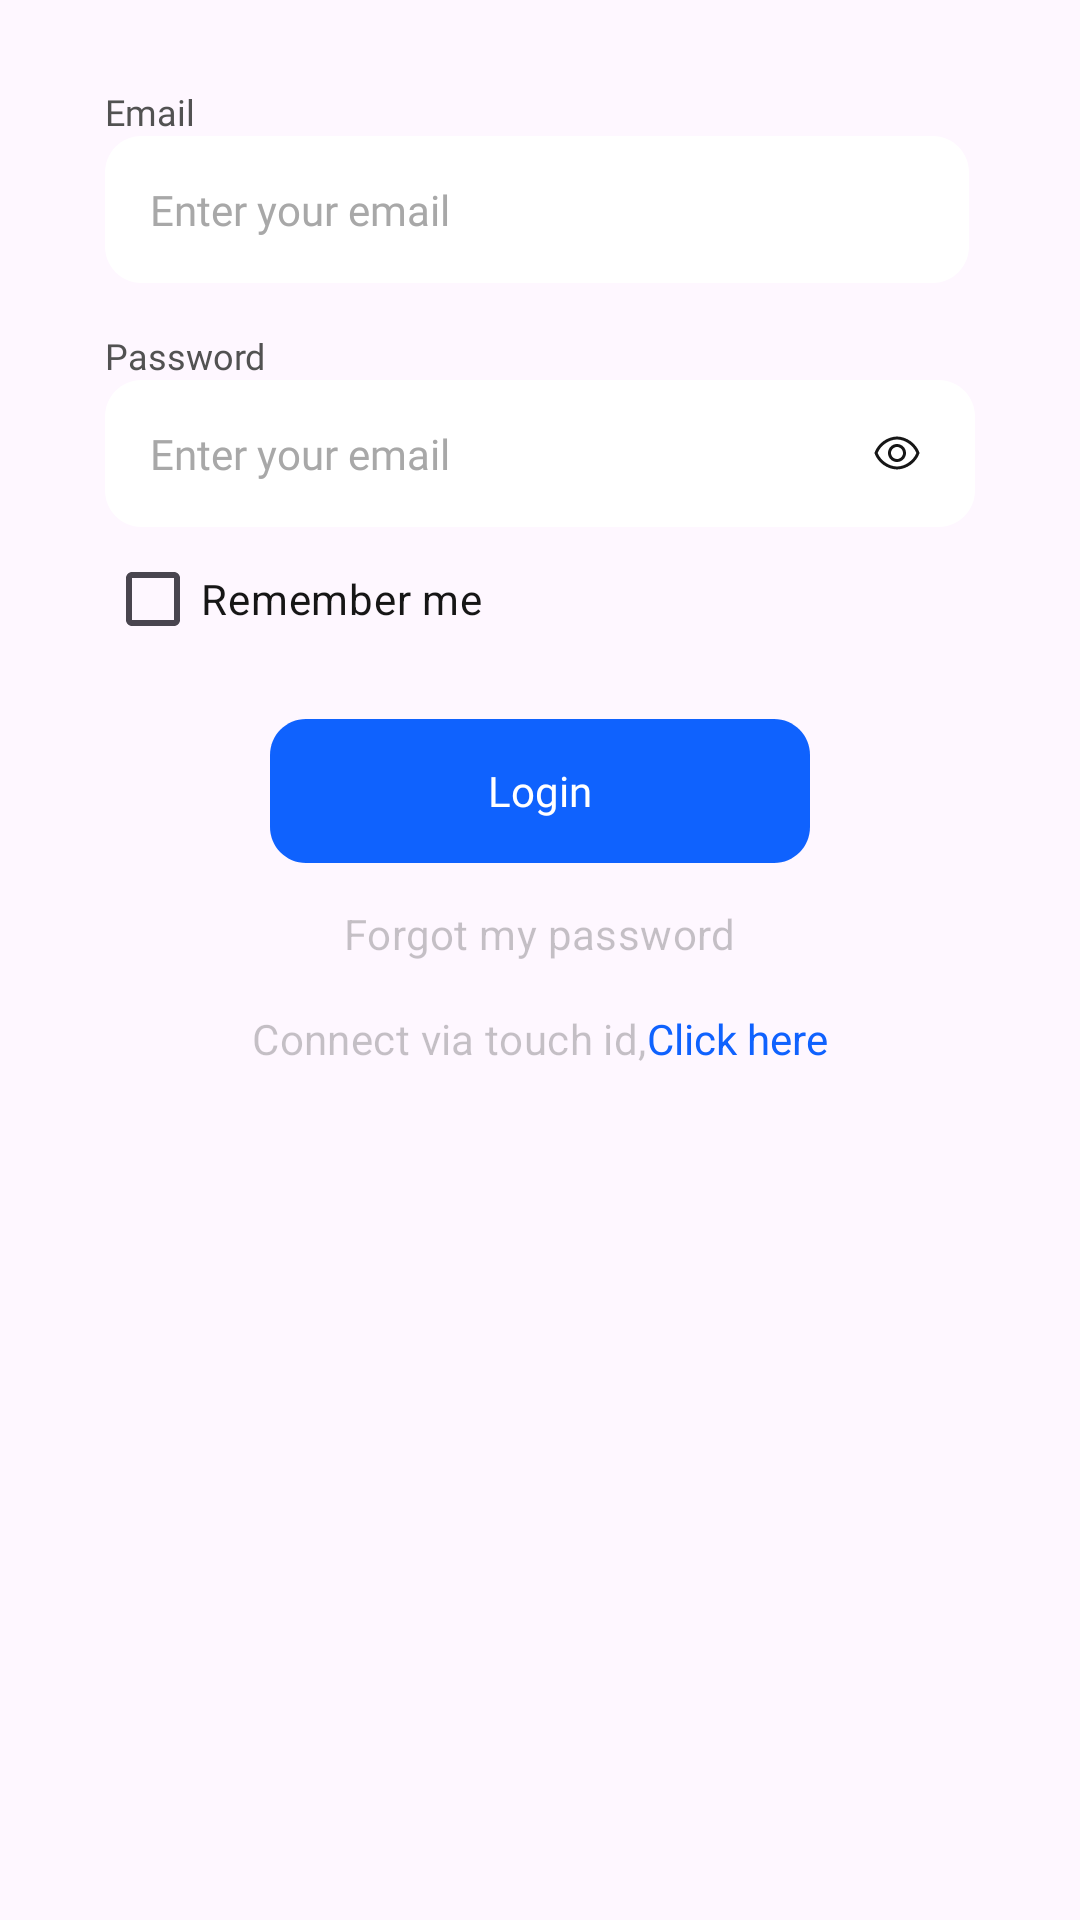

Point at icon controls on the screen. Image size 1080x1920, points as [x,y].
eye: [897,453]
